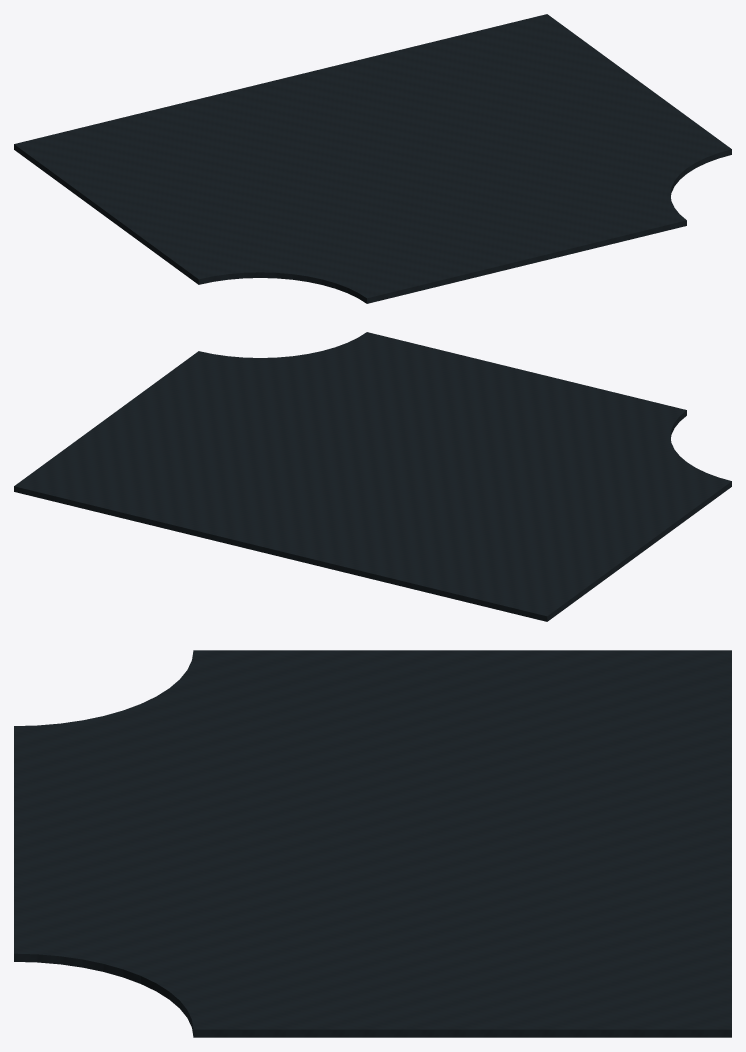
The model's file is Transit_Road_4L_TJunction_R4_Surface.glb.
The picture shows the model from 3 angles, top to bottom: view 1: azimuth 30°, elevation 25°; view 2: azimuth 150°, elevation 25°; view 3: azimuth 270°, elevation 25°; orthographic projection. The views are drawn at different scales.
Visible parts, largest first — view 1: Transit_Road_4L_TJunction_R4_Surface; view 2: Transit_Road_4L_TJunction_R4_Surface; view 3: Transit_Road_4L_TJunction_R4_Surface.
Boxes of the visible parts, <box> form: Transit_Road_4L_TJunction_R4_Surface: <box>14,14,731,303</box>; Transit_Road_4L_TJunction_R4_Surface: <box>14,332,731,621</box>; Transit_Road_4L_TJunction_R4_Surface: <box>14,650,731,1037</box>.
Bounding box in the file's own units: 20 × 0.2 × 16.
Materials: 1 (1 with a texture image).
